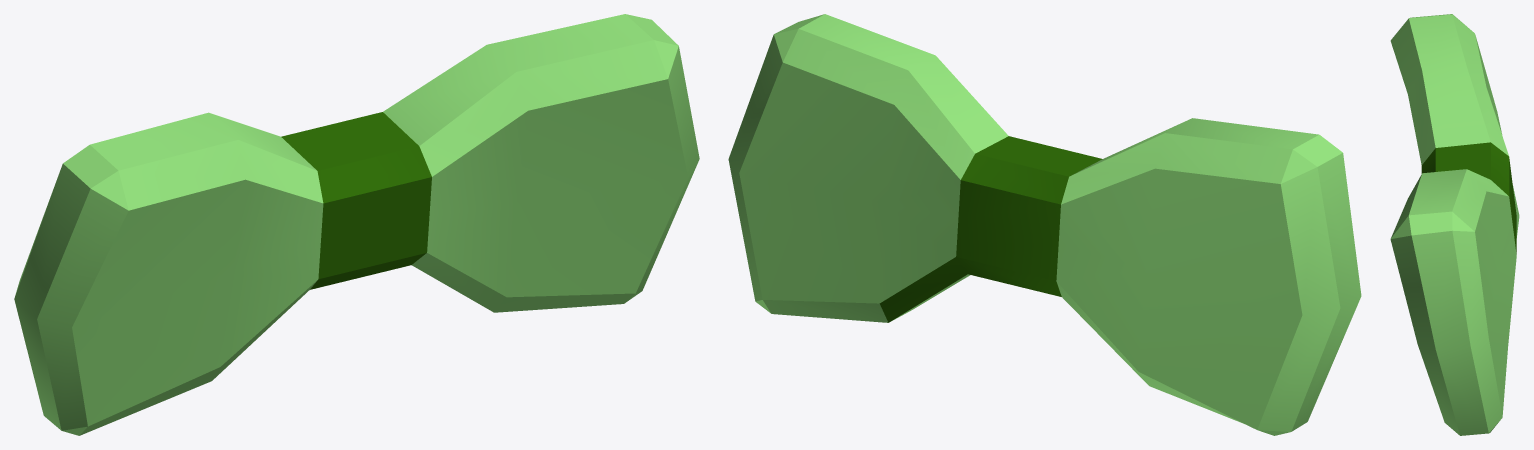
The model's file is bowtie.fbx.
3 views of the same model, side by side, from view 1: azimuth 30°, elevation 25°; view 2: azimuth 150°, elevation 25°; view 3: azimuth 270°, elevation 25° (orthographic). The views are drawn at different scales.
Visible parts, largest first — view 1: pCube1; view 2: pCube1; view 3: pCube1.
Boxes of the visible parts, <box> form: pCube1: <box>14,14,699,435</box>; pCube1: <box>728,14,1361,435</box>; pCube1: <box>1390,14,1519,435</box>.
Size of the model in its own units: 0.6037 by 0.2568 by 0.1349.
